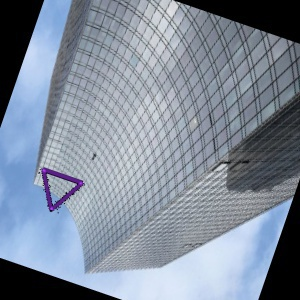triangle: (39, 164, 86, 214)
